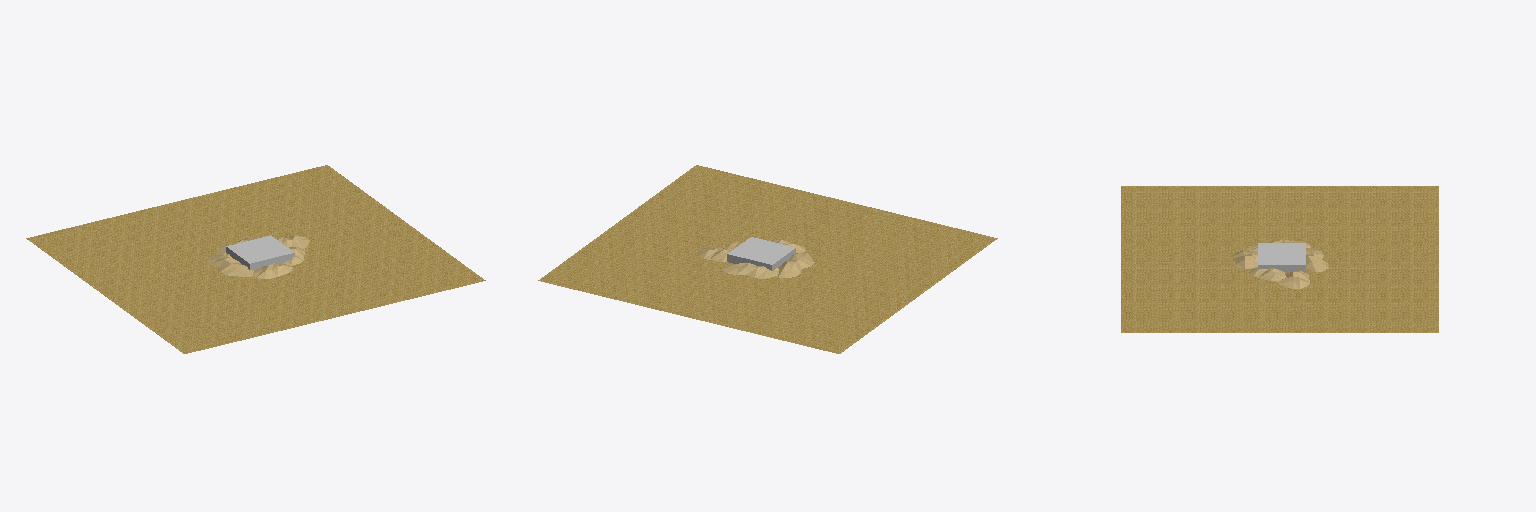
3 views of the same model, side by side, from view 1: azimuth 30°, elevation 25°; view 2: azimuth 150°, elevation 25°; view 3: azimuth 270°, elevation 25° (orthographic).
Parts seen in each view (by area): view 1: flathill, flathillcollisionBox; view 2: flathill, flathillcollisionBox; view 3: flathill, flathillcollisionBox.
Boxes of the visible parts, x1=… form: flathill: x1=26, y1=165, x2=485, y2=353; flathillcollisionBox: x1=226, y1=235, x2=294, y2=269; flathill: x1=538, y1=165, x2=997, y2=353; flathillcollisionBox: x1=727, y1=237, x2=795, y2=270; flathill: x1=1121, y1=186, x2=1438, y2=332; flathillcollisionBox: x1=1258, y1=243, x2=1305, y2=272.
Size of the model in its own units: 48793 by 1391 by 44426.
Materials: 8 (7 with a texture image).